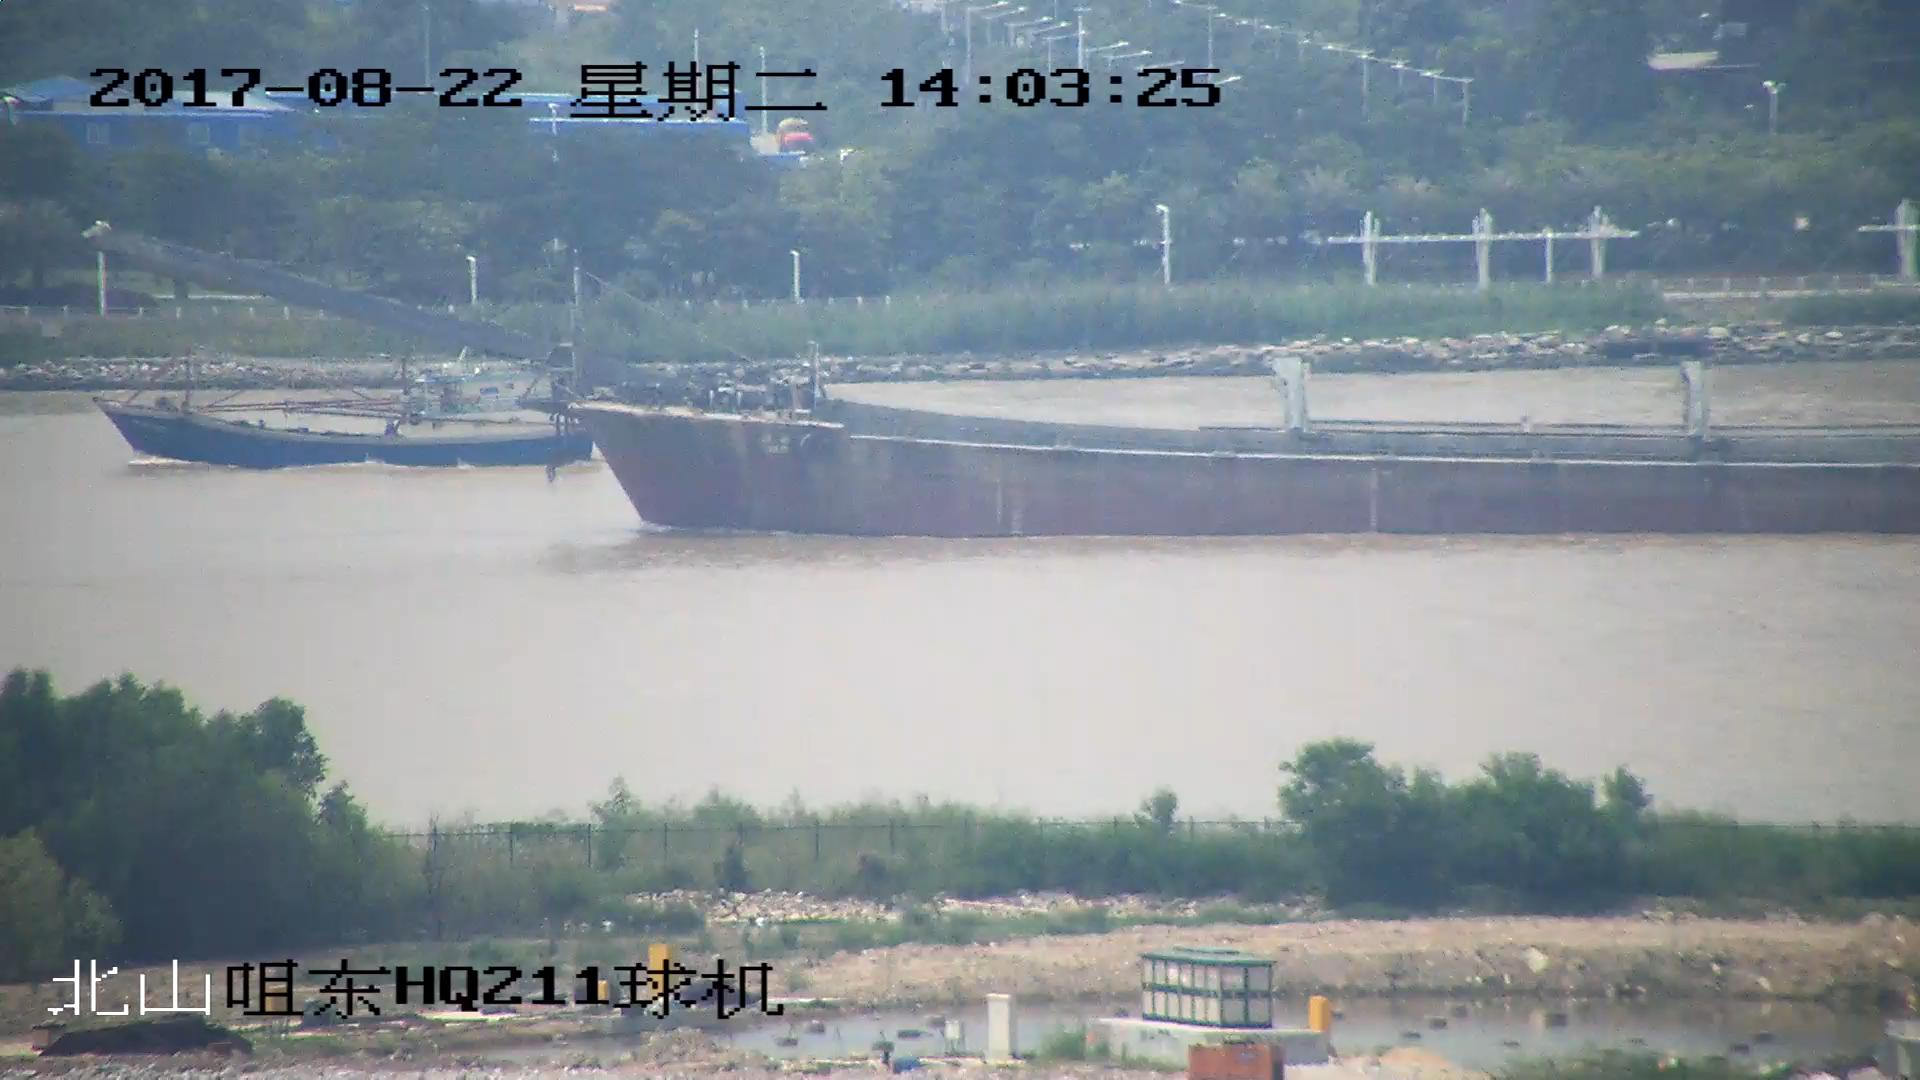bulk cargo carrier: (85, 227, 1920, 539)
fishing boat: (93, 352, 593, 473)
